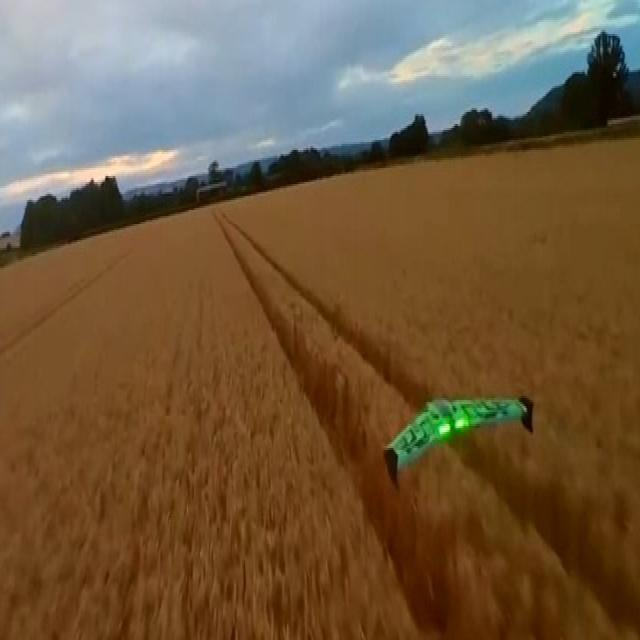Airplane: (381, 384, 542, 468)
